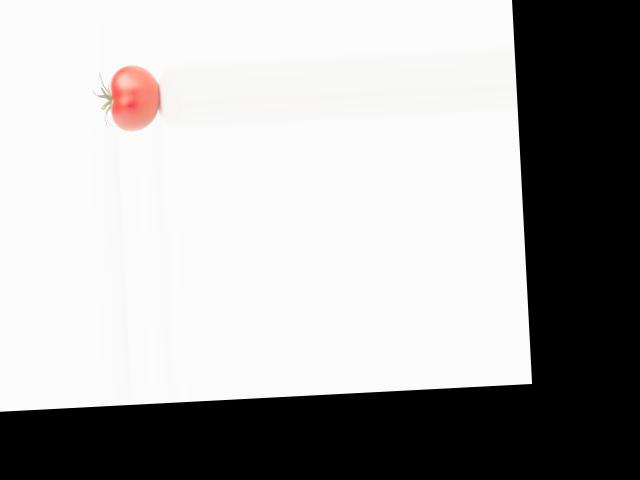tomato: (108, 63, 160, 131)
